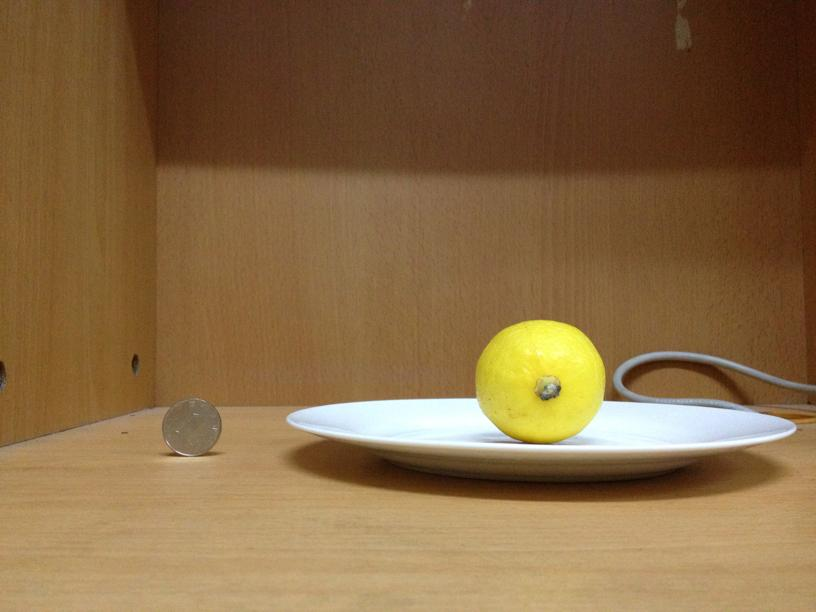coin: (163, 397, 221, 459)
lemon: (477, 315, 607, 442)
